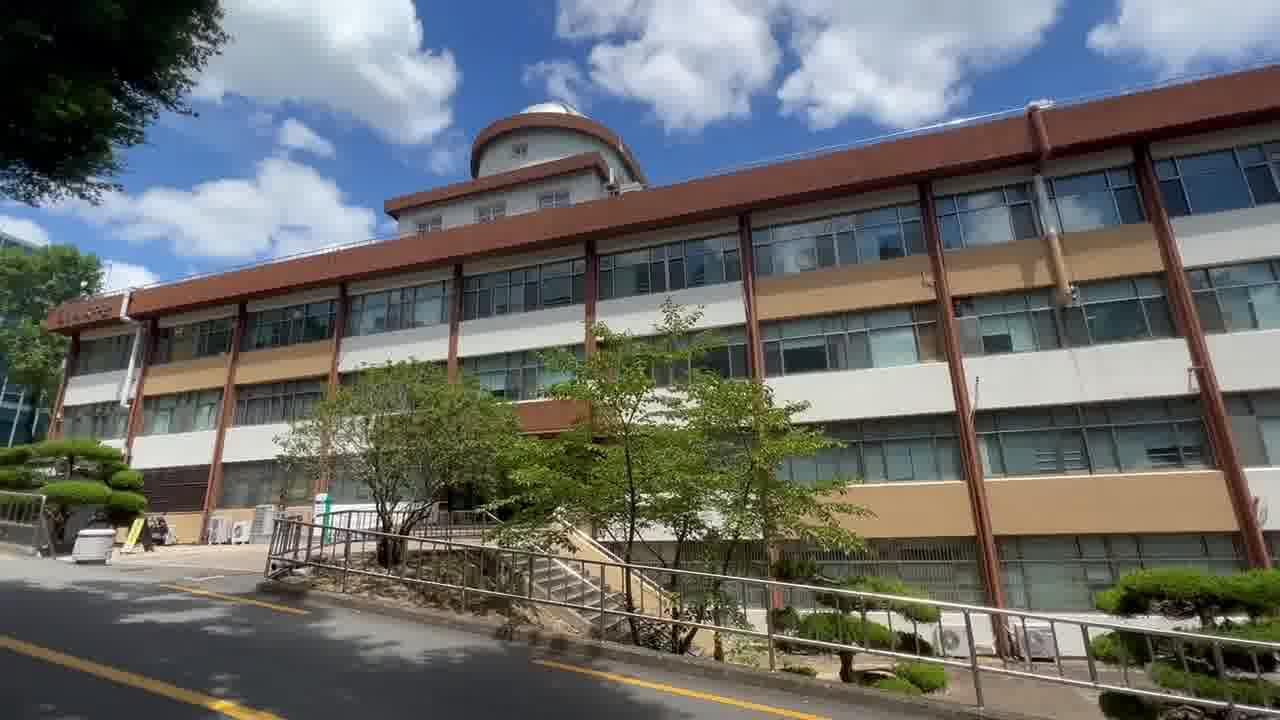building: (126, 93, 1280, 436)
